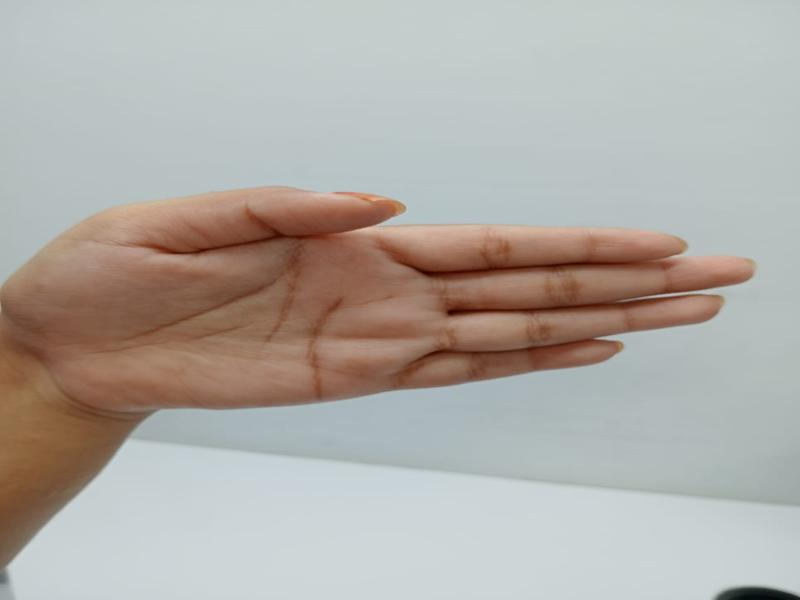DOWN: (1, 164, 772, 515)
